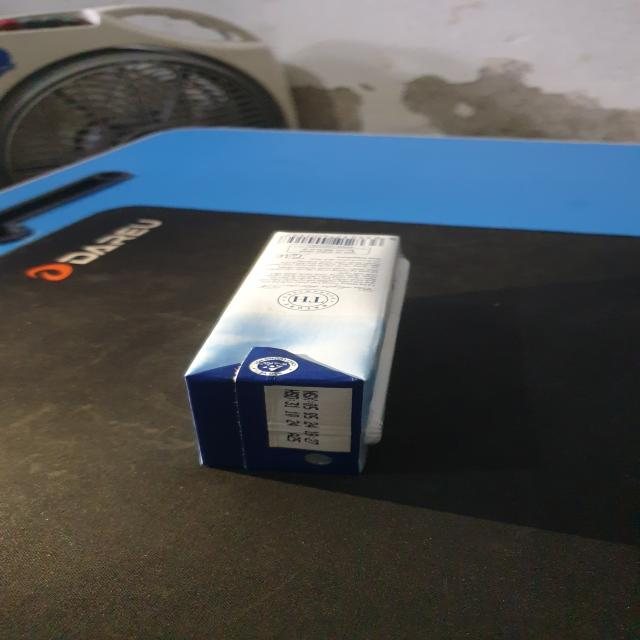TH: (182, 233, 419, 482)
